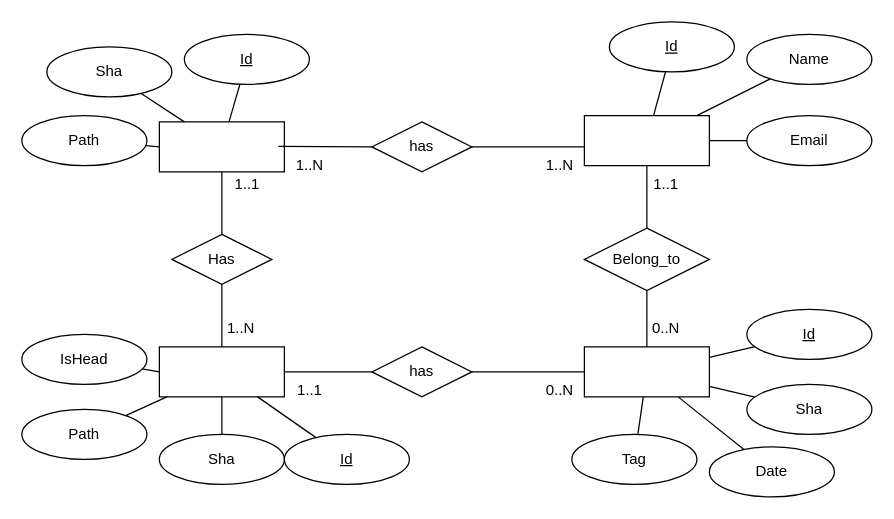
This 894x519 diagram has some shape labels left out. The centre of each missing label's shape, as x and y in pixels:
"Author" belongs at point 646,140.
"Branch" belongs at point 221,371.
"Commit" belongs at point 646,371.
"Repository" belongs at point 221,146.
